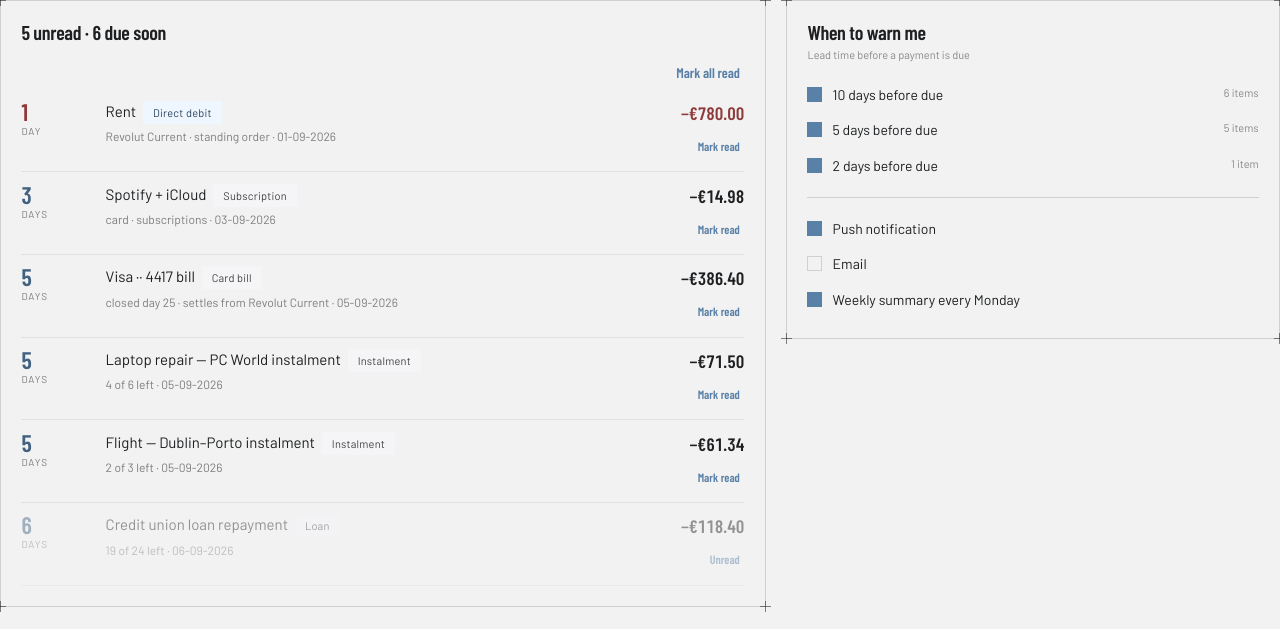
Test: NotificationsPage - read state › marks everything visible read at once
Click the button "Mark all read": x=708, y=74 672,57 -> 744,90
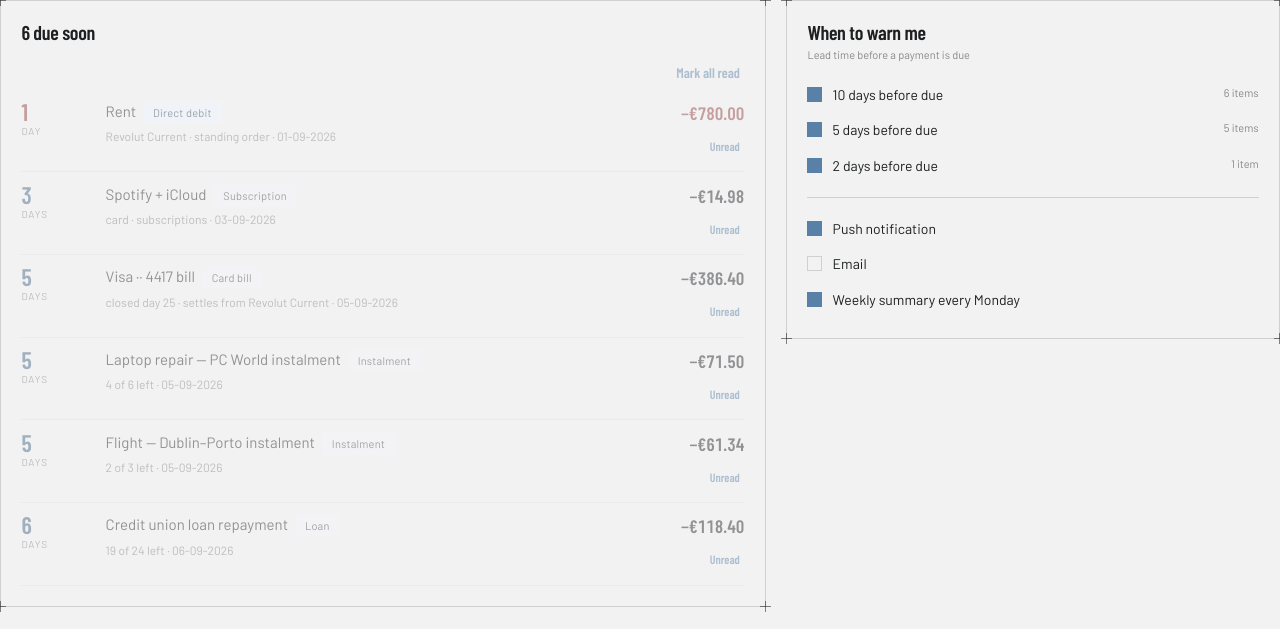
Expected: the heading "6 due soon" is shown, 21,21 -> 95,44
Expected: the button "Mark all read" is disabled, 672,57 -> 744,90
